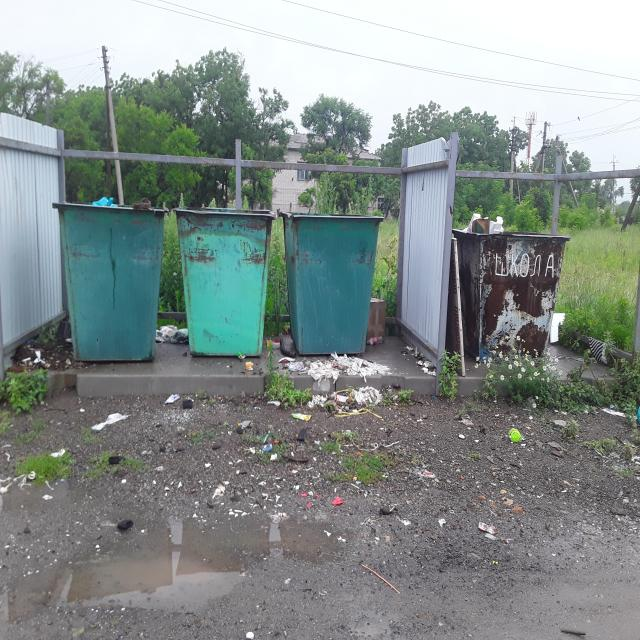bin: (56, 202, 165, 368), (456, 234, 564, 364), (278, 211, 374, 352), (178, 210, 266, 353)
trash: (234, 358, 402, 508), (8, 318, 73, 376), (90, 184, 154, 212), (366, 291, 389, 350), (462, 206, 505, 236), (265, 322, 299, 359), (155, 321, 192, 349)
